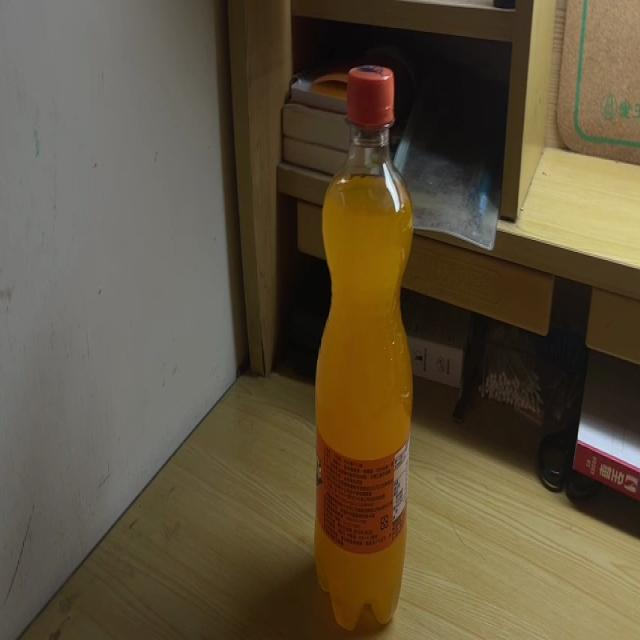Fanta: (313, 62, 413, 632)
